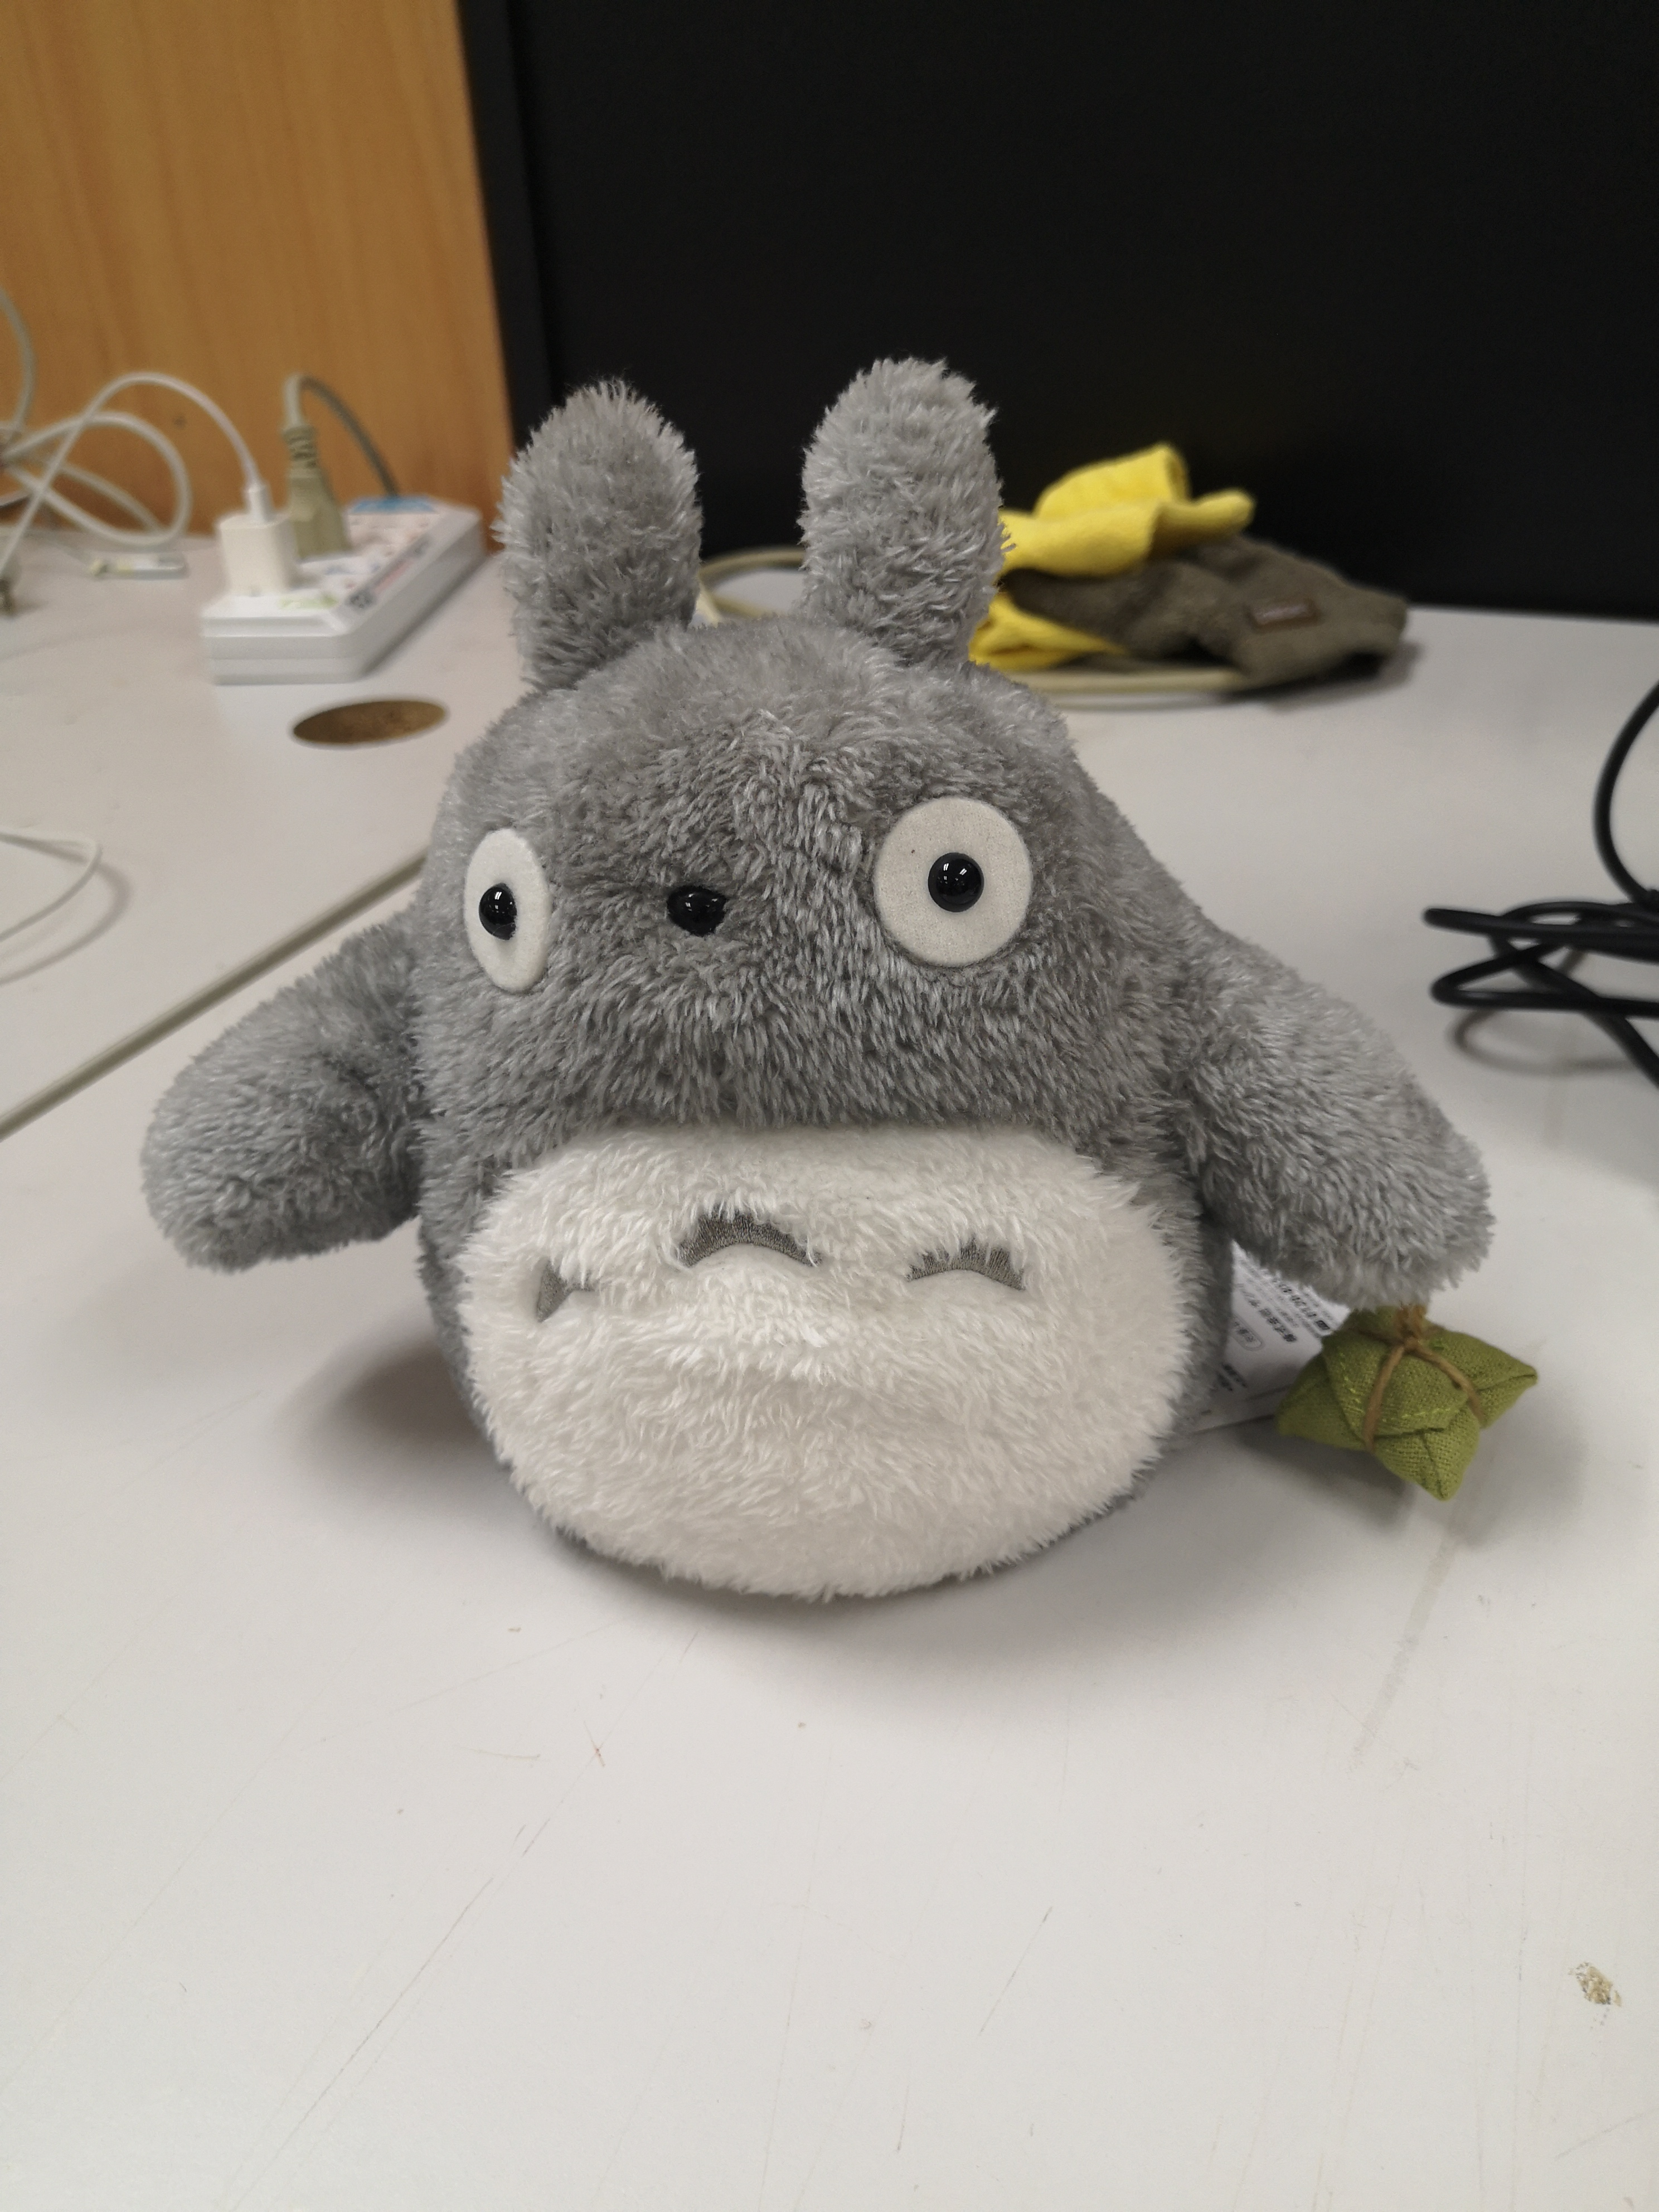totoro: (112, 354, 1556, 1611)
